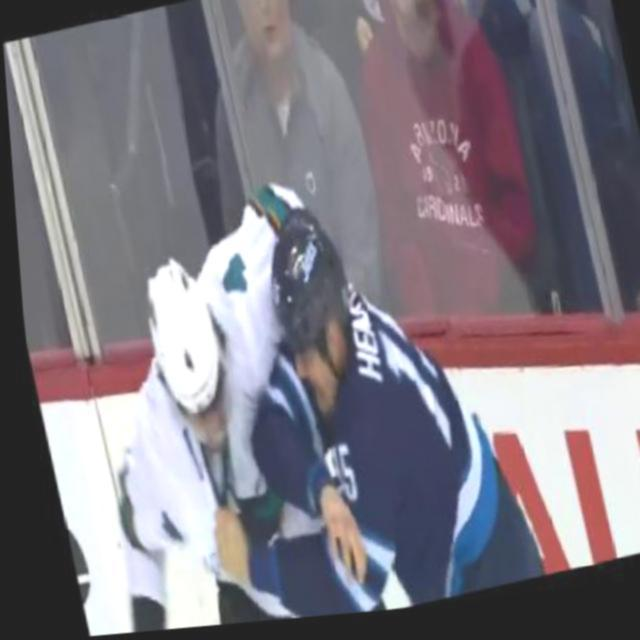fight: (39, 147, 490, 638)
